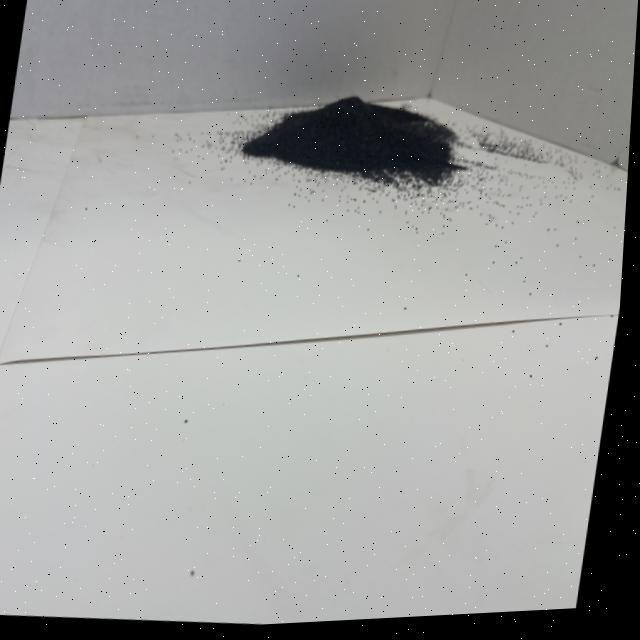Poppy Seeds: (231, 75, 497, 248)
